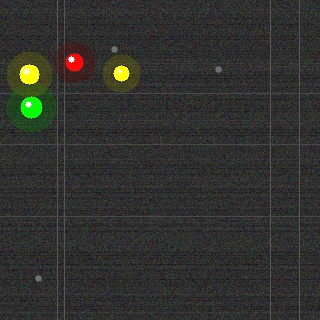green_normal: (18, 94, 44, 120)
red_fault: (63, 51, 85, 73)
yellow_warning: (17, 62, 41, 86), (111, 63, 131, 83)
